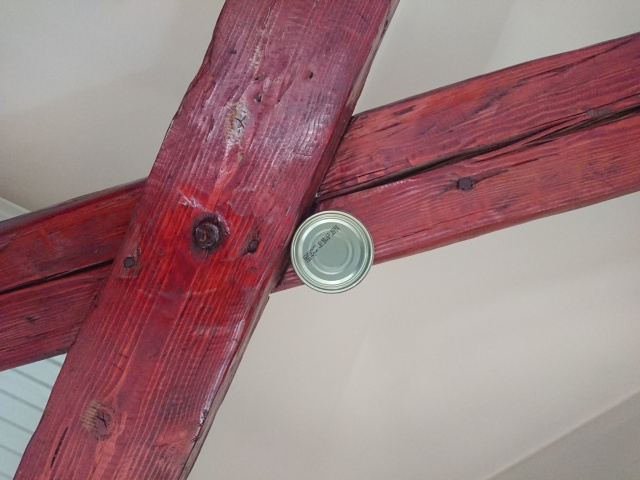Giana Tuna Salad Mexico 185g: (287, 207, 376, 297)
